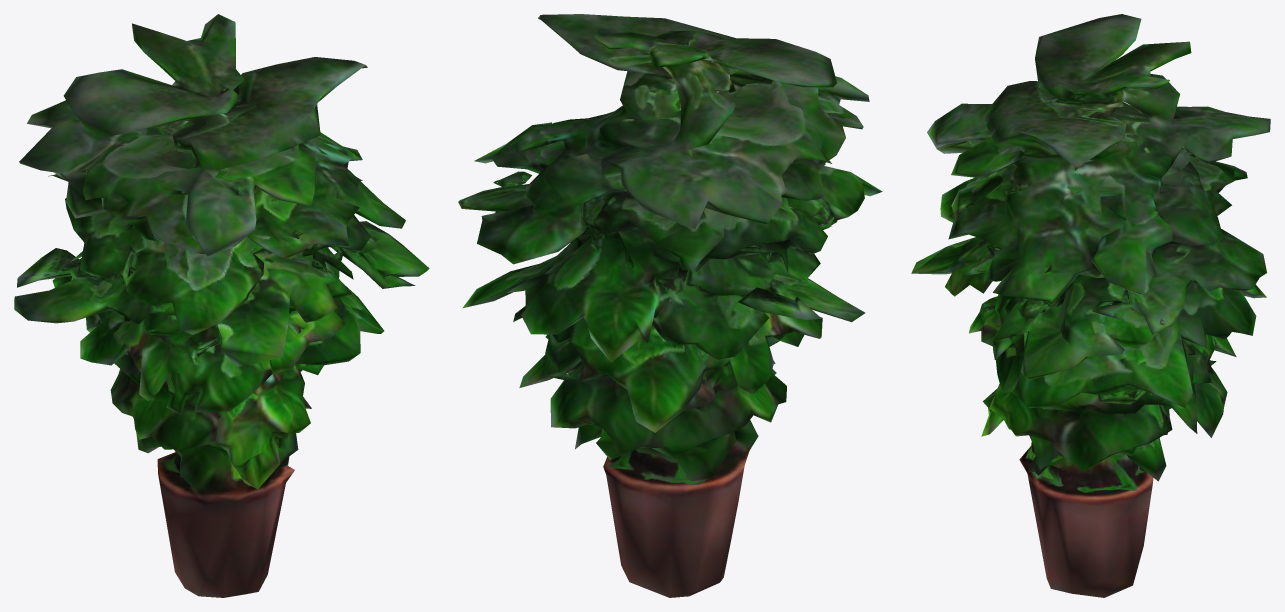
The model's file is d505f0f5ff72_indoor_plant_in_a_p.fbx.
3 renders of one model, left to right at view 1: azimuth 30°, elevation 25°; view 2: azimuth 150°, elevation 25°; view 3: azimuth 270°, elevation 25°, orthographic. The views are drawn at different scales.
Parts seen in each view (by area): view 1: mesh; view 2: mesh; view 3: mesh.
Boxes of the visible parts, box(x1,y1,x2,y2) form: mesh: box(14, 14, 429, 597); mesh: box(458, 14, 882, 597); mesh: box(911, 14, 1270, 597).
Size of the model in its own units: 71.4 by 100 by 62.63.
